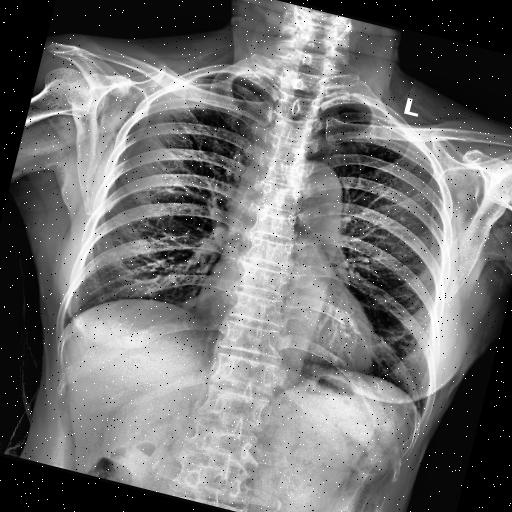0- Aortic enlargement: (278, 155, 358, 236), (280, 156, 356, 232), (284, 156, 354, 223)
